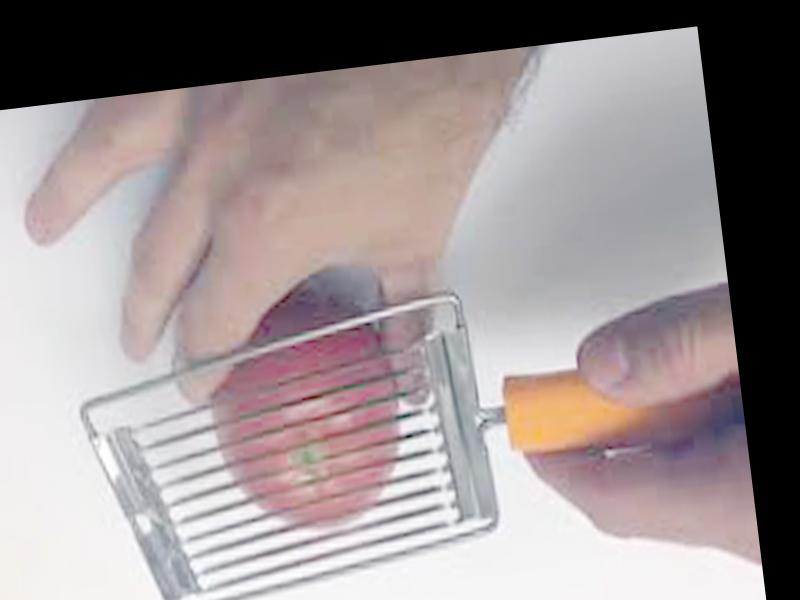Tomato: (205, 289, 415, 538)
